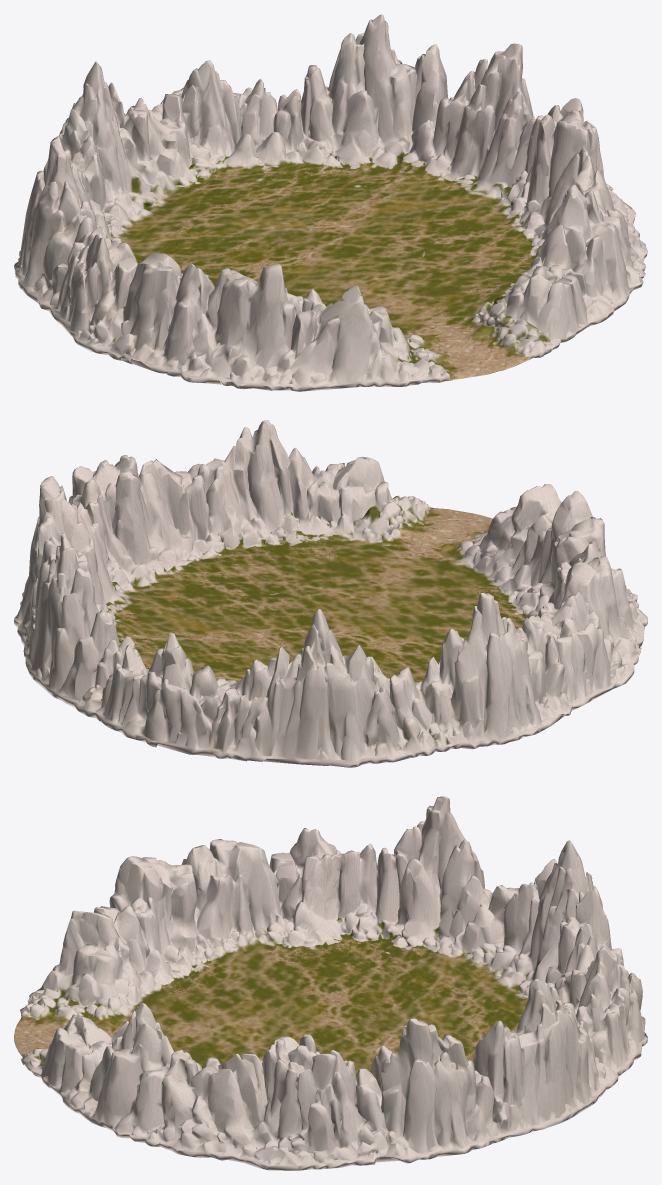
File: Meshy_AI_Rocky_Basin_Terrain_20261030_texture.fbx
3 views of the same model, one above another, from view 1: azimuth 30°, elevation 25°; view 2: azimuth 150°, elevation 25°; view 3: azimuth 270°, elevation 25° (orthographic).
Parts seen in each view (by area): view 1: Mesh_0; view 2: Mesh_0; view 3: Mesh_0.
Boxes of the visible parts, bbox=[...] form: Mesh_0: bbox=[14, 14, 647, 391]; Mesh_0: bbox=[14, 420, 647, 767]; Mesh_0: bbox=[14, 796, 647, 1170].
Bounding box in the file's own units: 200 × 48.39 × 198.
1 material, 1 textured.
